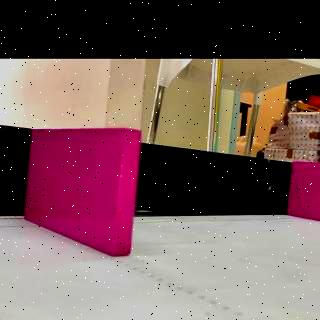xparking: (32, 130, 137, 238), (293, 160, 320, 218)
